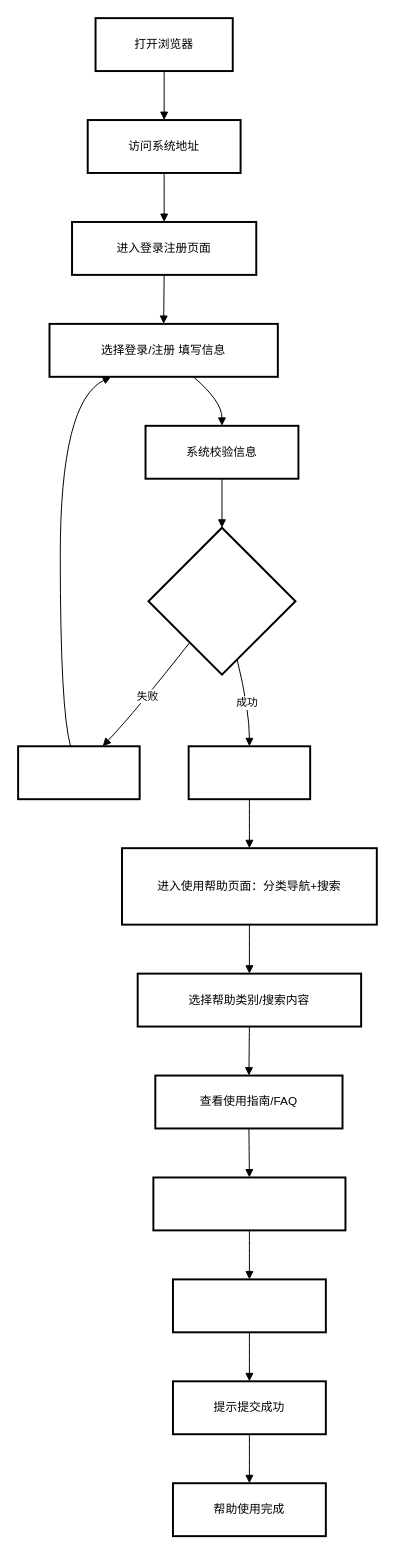
Some shapes in this 394 by 1553 pixel diagram are drawn without their labels. The box of each missing label's shape, as (x1, y1, x2, y2) in pixels:
提交反馈/联系支持: (152, 1176, 346, 1231)
提示错误: (17, 745, 140, 800)
系统接收反馈: (172, 1278, 326, 1333)
系统首页: (187, 745, 311, 800)
验证是否成功: (147, 526, 296, 675)
